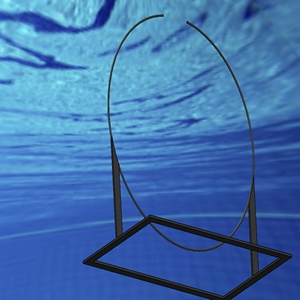circle: (83, 13, 289, 300)
